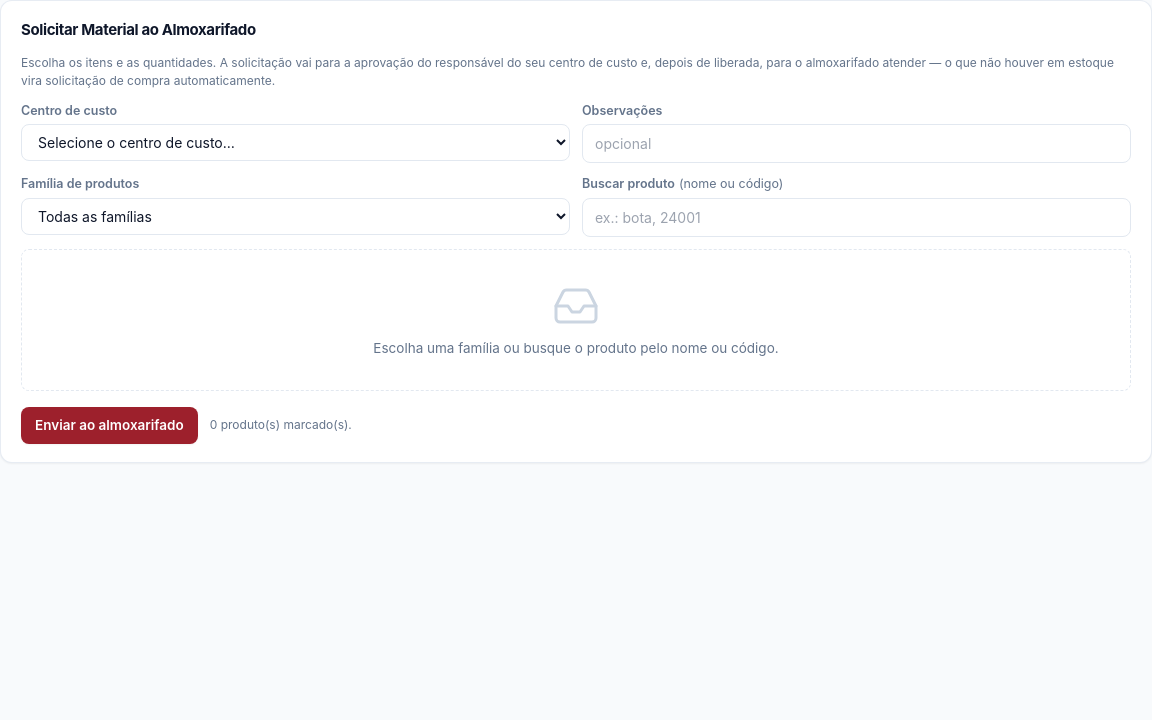
a ficha do produto na tela de material › clicar no nome abre a ficha com a foto, os tamanhos e o C.A. do fornecedor
The width and height of the screenshot is (1152, 720).
Select "EPI" in the dropdown labelled "Família de produtos": (296, 216) [21,198,570,235]
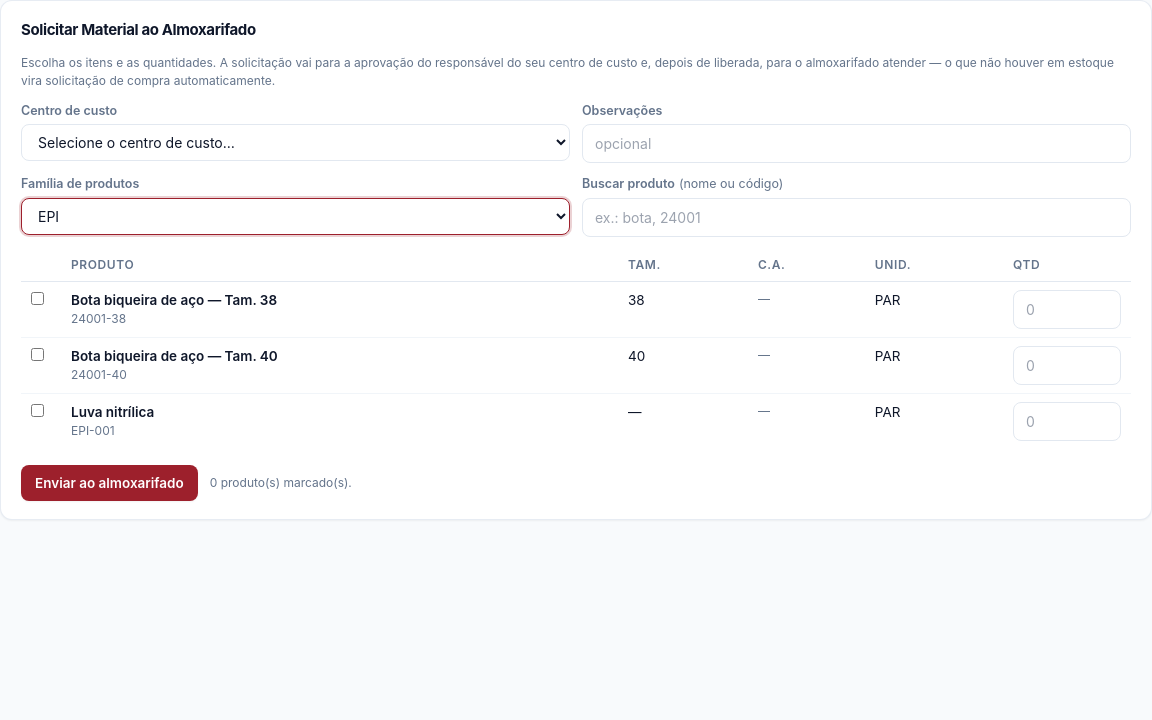
Click the button "Bota biqueira de aço — Tam. 40": (174, 356) [71,346,278,366]
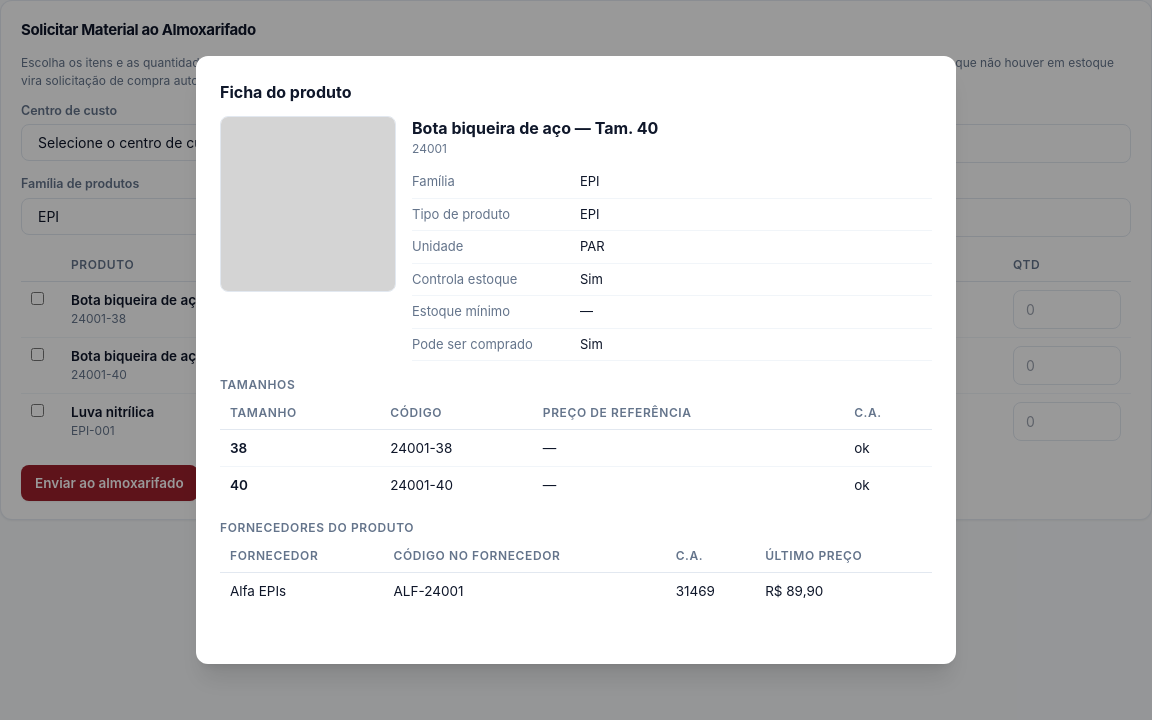
Now the table with test id "tamanhos-da-ficha" shows "38", box [230,440,247,456]
Now the table with test id "fornecedores-da-ficha" shows "Alfa EPIs", box [230,582,286,598]
Now the table with test id "fornecedores-da-ficha" shows "31469", box [676,582,715,598]
